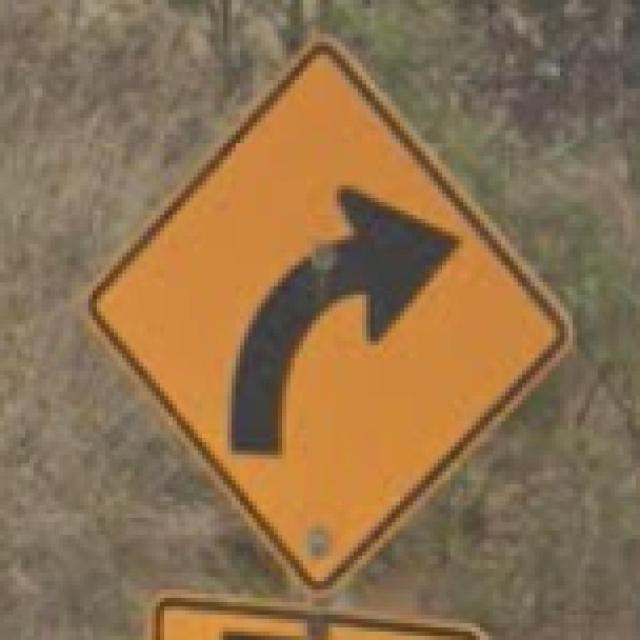Tikungan Ke Kanan: (67, 29, 577, 594)
